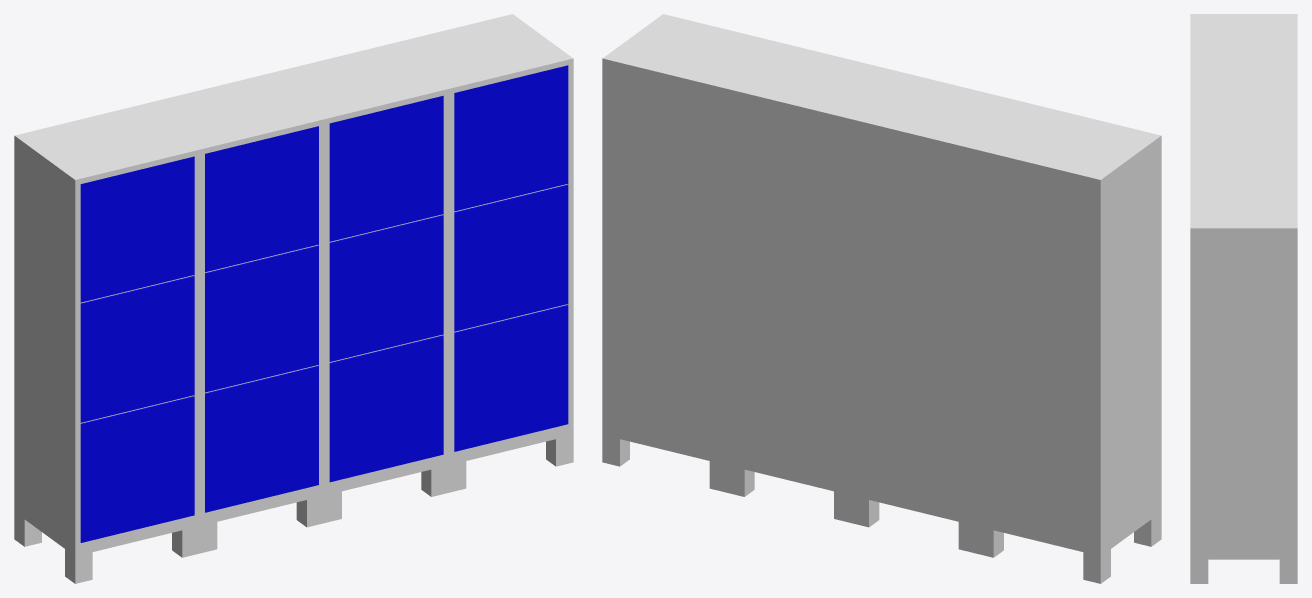
File: casiers.bloc.4.glb
3 views of the same model, side by side, from view 1: azimuth 30°, elevation 25°; view 2: azimuth 150°, elevation 25°; view 3: azimuth 270°, elevation 25° (orthographic). The views are drawn at different scales.
Parts seen in each view (by area): view 1: imagetostl_mesh7, imagetostl_mesh17, imagetostl_mesh68, imagetostl_mesh18, imagetostl_mesh118, imagetostl_mesh69, imagetostl_mesh109, imagetostl_mesh113, imagetostl_mesh67, imagetostl_mesh19, imagetostl_mesh55, imagetostl_mesh59 (+9 smaller); view 2: imagetostl_mesh46, imagetostl_mesh4, imagetostl_mesh83, imagetostl_mesh96, imagetostl_mesh7, imagetostl_mesh89, imagetostl_mesh16, imagetostl_mesh44, imagetostl_mesh111; view 3: imagetostl_mesh108, imagetostl_mesh111, imagetostl_mesh16, imagetostl_mesh44, imagetostl_mesh89.
Boxes of the visible parts, x1,y1,x2,y2 form: imagetostl_mesh7: (14,136,75,583); imagetostl_mesh17: (80,156,194,302); imagetostl_mesh68: (329,95,443,241); imagetostl_mesh18: (80,276,194,422); imagetostl_mesh118: (454,65,568,211); imagetostl_mesh69: (329,216,443,361); imagetostl_mesh109: (454,306,568,451); imagetostl_mesh113: (454,185,568,331); imagetostl_mesh67: (329,336,443,482); imagetostl_mesh19: (80,397,194,542); imagetostl_mesh55: (205,126,318,272); imagetostl_mesh59: (205,366,318,512); imagetostl_mesh46: (851,119,976,553); imagetostl_mesh4: (976,149,1100,583); imagetostl_mesh83: (727,89,851,522); imagetostl_mesh96: (602,58,726,492); imagetostl_mesh7: (1100,136,1161,583); imagetostl_mesh89: (727,44,911,119); imagetostl_mesh16: (976,105,1161,179); imagetostl_mesh44: (852,75,1036,149); imagetostl_mesh111: (603,14,787,88); imagetostl_mesh108: (1190,228,1297,583); imagetostl_mesh111: (1190,174,1297,228); imagetostl_mesh16: (1190,14,1297,67); imagetostl_mesh44: (1190,67,1297,120); imagetostl_mesh89: (1190,121,1297,174).
Bounding box in the file's own units: 2.24 × 1.73 × 0.4724.
